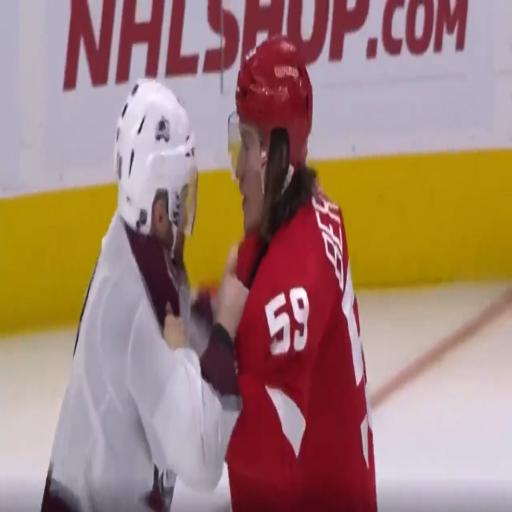violencia: (40, 23, 382, 512)
